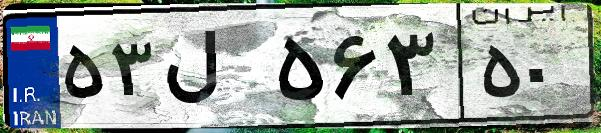0: (525, 38, 570, 115)
3: (385, 28, 445, 110), (110, 28, 158, 98)
5: (270, 28, 330, 110), (57, 26, 110, 100), (475, 38, 525, 113)
6: (330, 28, 385, 110)
ل: (158, 20, 270, 120)
